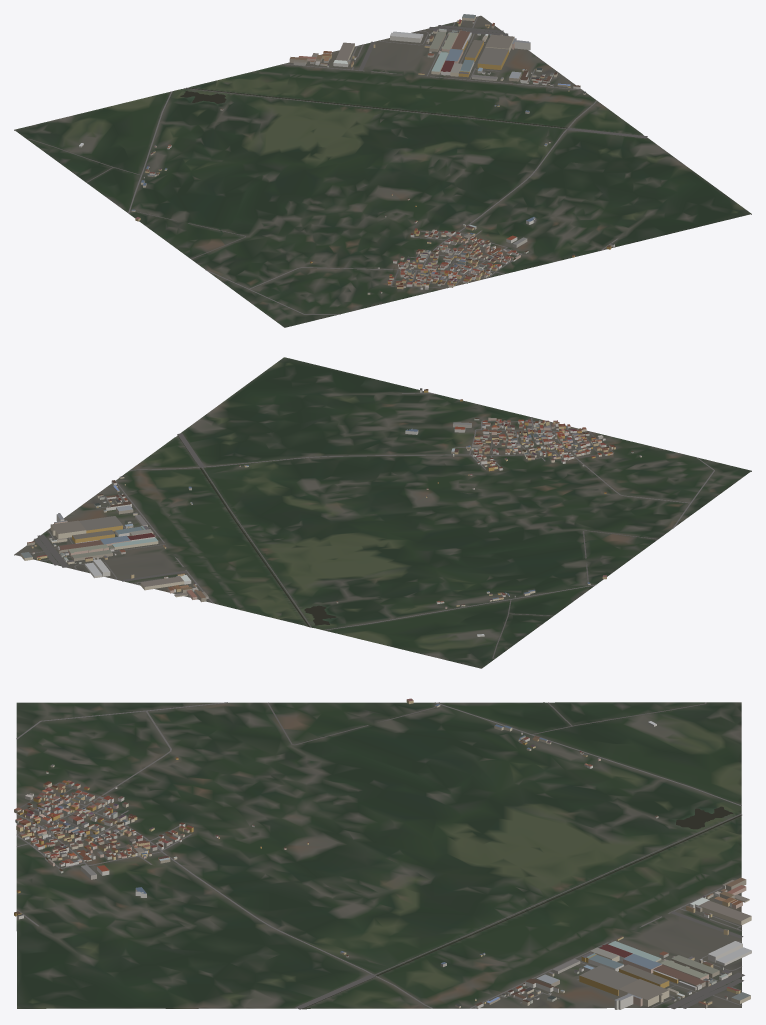
The picture shows the model from 3 angles, top to bottom: view 1: azimuth 30°, elevation 25°; view 2: azimuth 150°, elevation 25°; view 3: azimuth 270°, elevation 25°; orthographic projection. The views are drawn at different scales.
Visible parts, largest first — view 1: ground, buildings, roads, water; view 2: ground, buildings, roads, water; view 3: ground, buildings, roads, water.
Boxes of the visible parts, x1,y1,x2,y2 form: ground: [14, 15, 751, 327]; buildings: [79, 14, 614, 294]; roads: [27, 16, 647, 314]; water: [180, 87, 567, 128]; ground: [14, 357, 751, 668]; buildings: [20, 388, 641, 636]; roads: [17, 393, 714, 658]; water: [177, 435, 336, 626]; ground: [16, 702, 741, 1009]; buildings: [14, 698, 751, 1009]; roads: [16, 702, 744, 1009]; water: [302, 806, 741, 1008].
Size of the model in its own units: 1413 by 24.29 by 1427.
